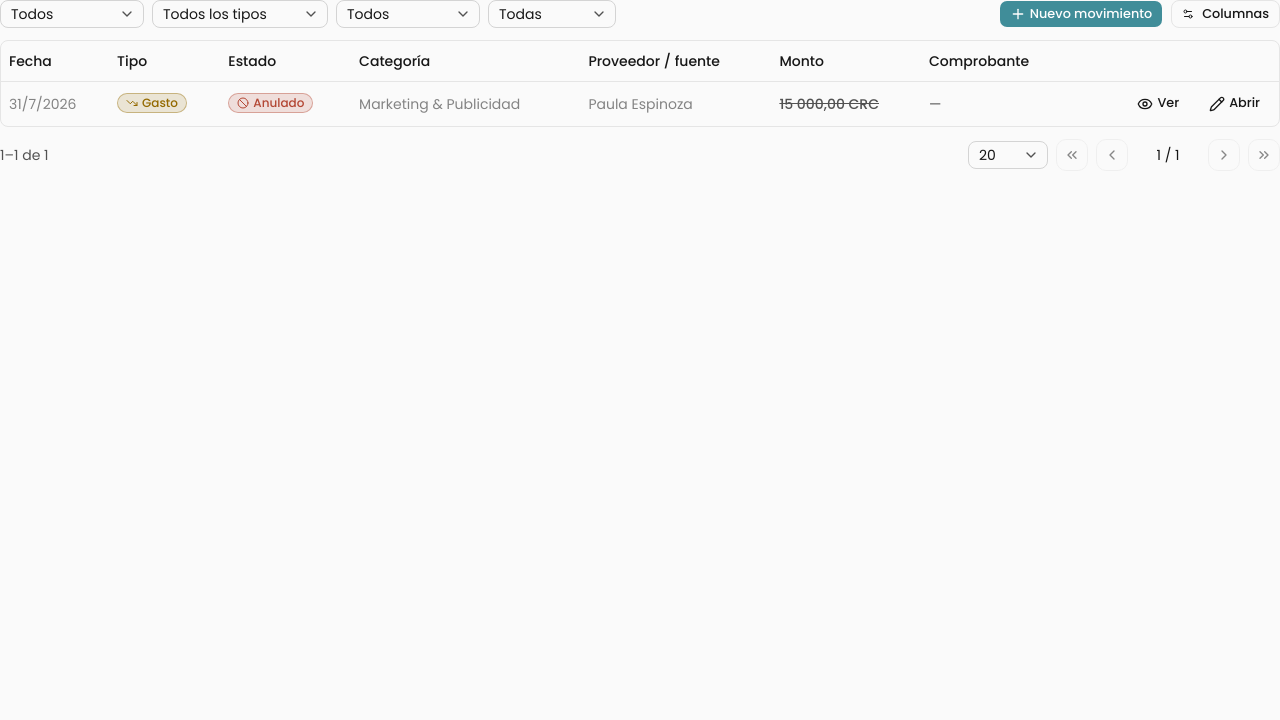
Scenario: FinanceEntriesTable — "Anulado por" muestra a la persona › usa el nombre del admin y guarda el uuid para cuando ya no existe
Click the text "Paula Espinoza": {"x": 640, "y": 103} [1,81,1279,126]
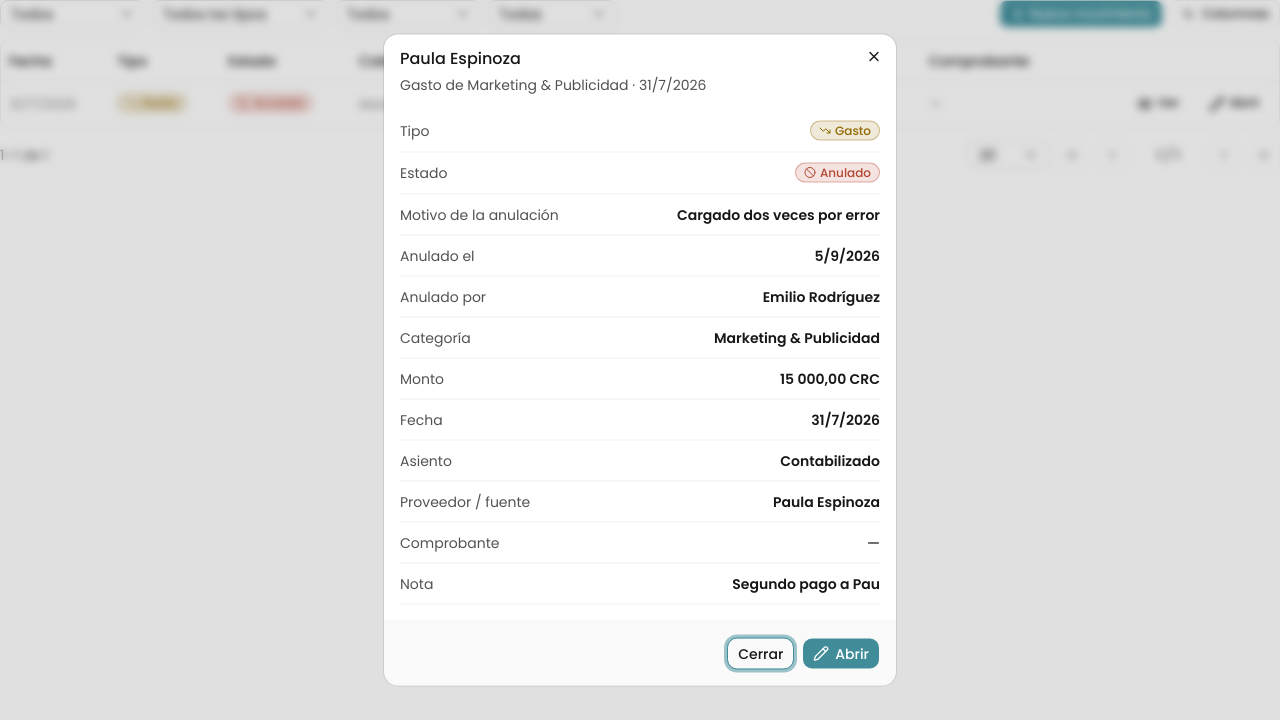
Expected: the dialog is shown, [384,34,896,686]
Expected: the text "Emilio Rodríguez" is shown, [763,286,880,306]
